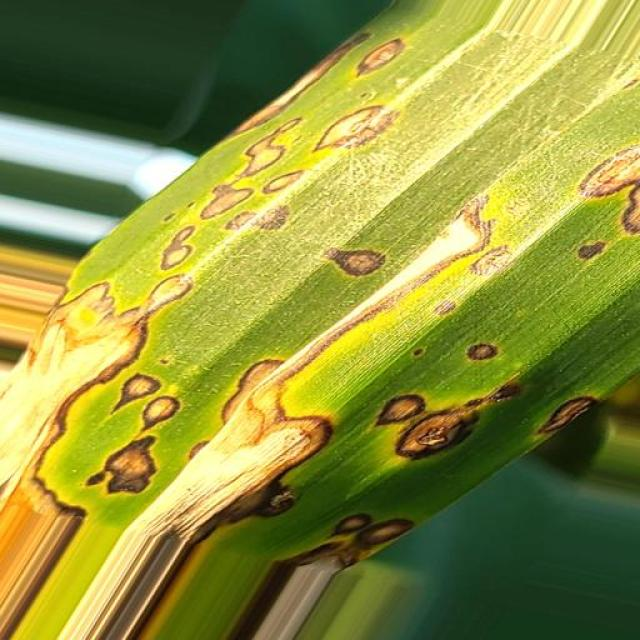Early_rust: (25, 19, 634, 593)
